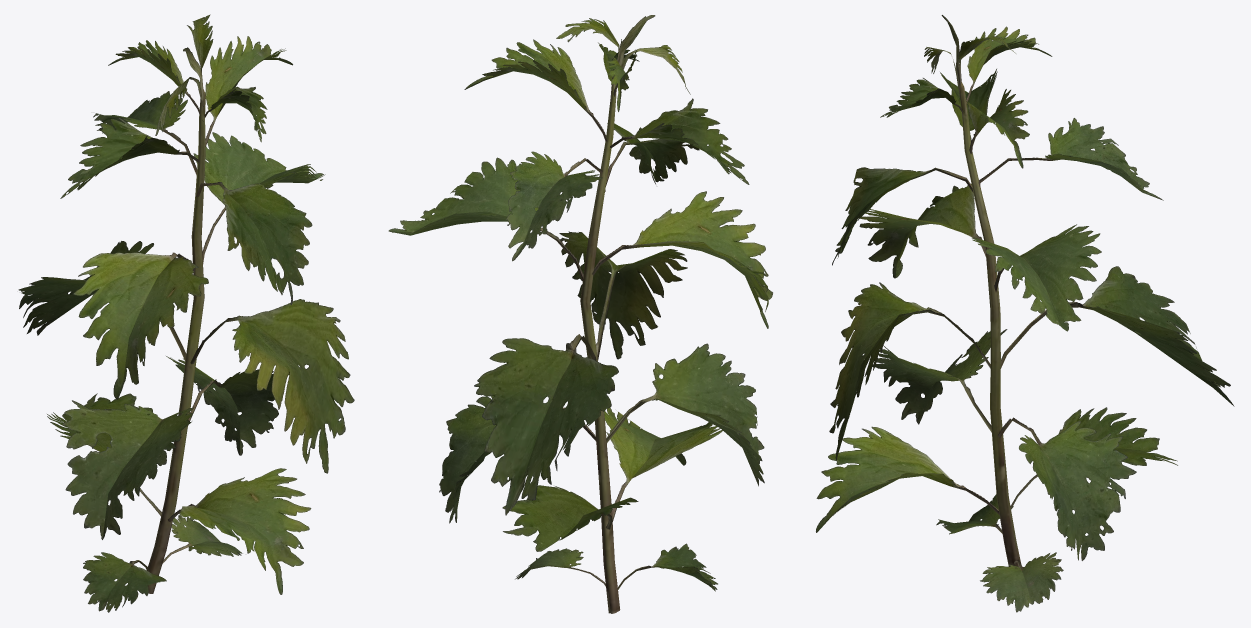
Rendered from nettle_plant_medium_a_LOD1.glb.
The picture shows the model from 3 angles, left to right: view 1: azimuth 30°, elevation 25°; view 2: azimuth 150°, elevation 25°; view 3: azimuth 270°, elevation 25°; orthographic projection.
Visible parts, largest first — view 1: nettle_plant_medium_a_LOD1__lod0; view 2: nettle_plant_medium_a_LOD1__lod0; view 3: nettle_plant_medium_a_LOD1__lod0.
Boxes of the visible parts, bbox=[...] form: nettle_plant_medium_a_LOD1__lod0: bbox=[18, 14, 354, 612]; nettle_plant_medium_a_LOD1__lod0: bbox=[388, 15, 772, 613]; nettle_plant_medium_a_LOD1__lod0: bbox=[816, 15, 1234, 612].
Size of what is drawn, in the model's own units: 0.0775 by 0.1316 by 0.0897.
1 material, 1 textured.
